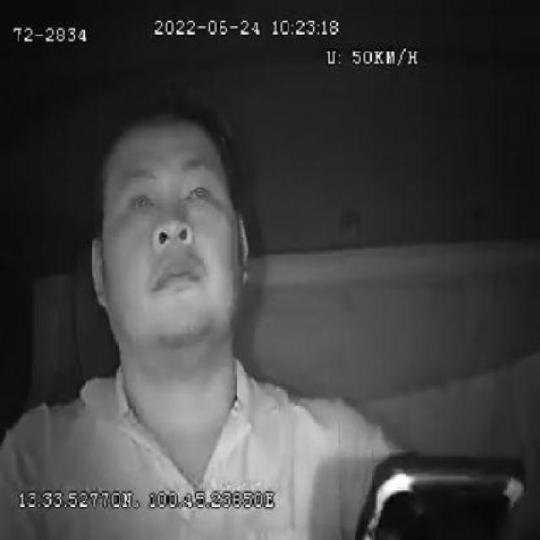phone: (357, 444, 523, 540)
